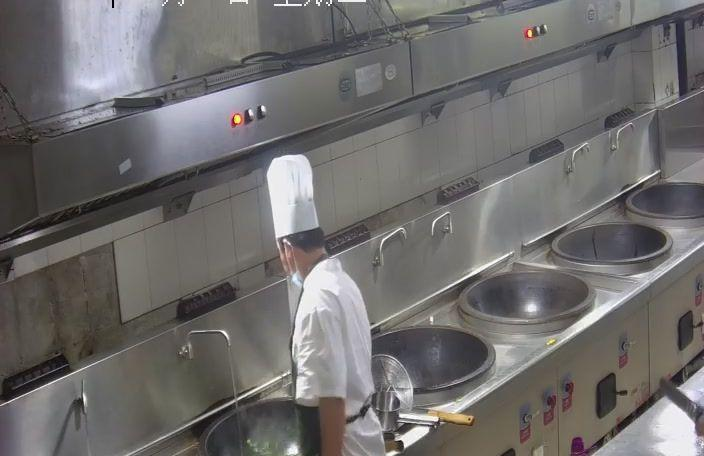mask: (274, 242, 308, 286)
